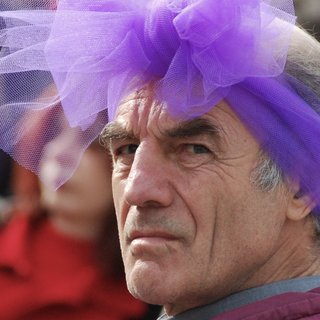eye: (173, 139, 220, 163)
